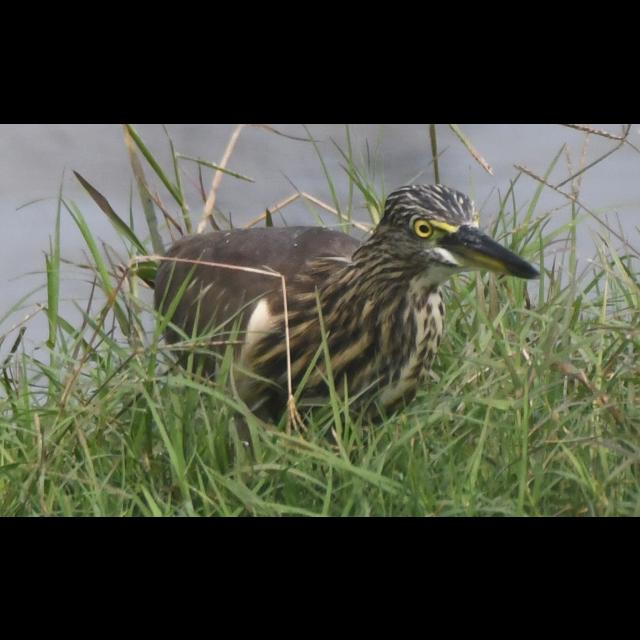heron: (152, 183, 540, 434)
